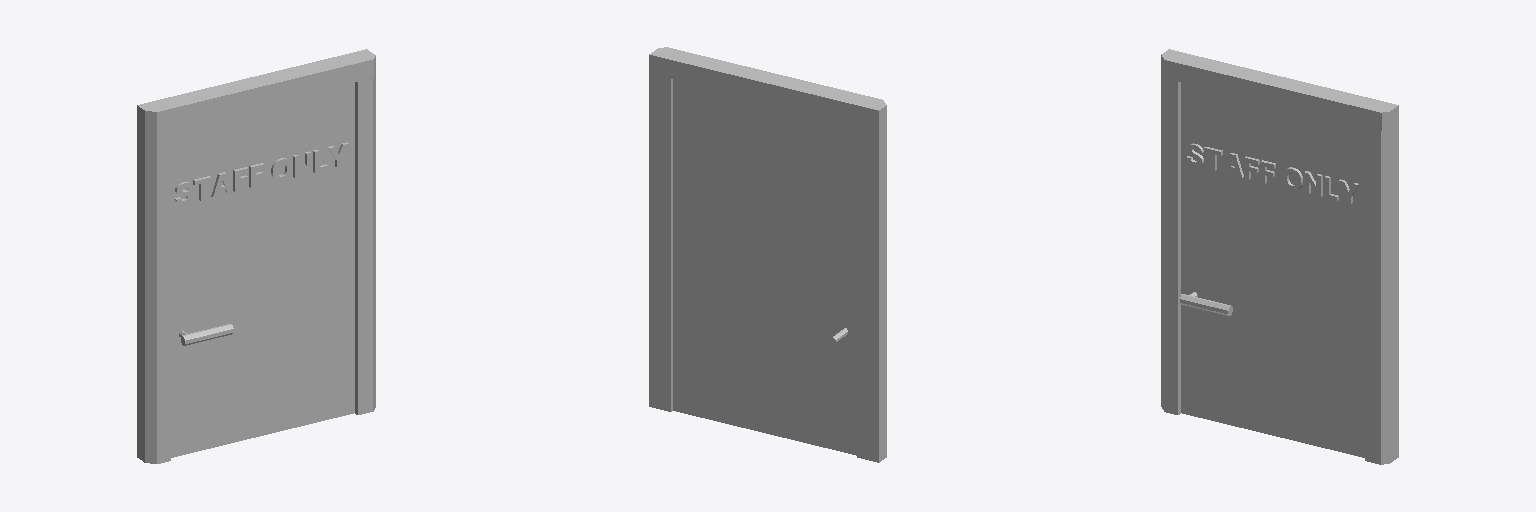
Rendered from Dressing room door.obj.
3 views of the same model, side by side, from view 1: azimuth 30°, elevation 25°; view 2: azimuth 150°, elevation 25°; view 3: azimuth 330°, elevation 25° (orthographic).
Visible parts, largest first — view 1: Part1, Union4, Union3, Part2, Union2; view 2: Part1, Union4, Union3, Part2; view 3: Part1, Union3, Union4, Part2, Union2.
Boxes of the visible parts, x1=… form: Part1: x1=171, y1=83, x2=354, y2=457; Union4: x1=137, y1=101, x2=170, y2=463; Union3: x1=346, y1=49, x2=375, y2=414; Part2: x1=146, y1=52, x2=373, y2=130; Union2: x1=181, y1=324, x2=233, y2=345; Part1: x1=673, y1=79, x2=856, y2=455; Union4: x1=857, y1=97, x2=886, y2=462; Union3: x1=649, y1=47, x2=681, y2=411; Part2: x1=654, y1=47, x2=881, y2=126; Part1: x1=1181, y1=83, x2=1364, y2=457; Union3: x1=1365, y1=100, x2=1398, y2=464; Union4: x1=1161, y1=49, x2=1180, y2=414; Part2: x1=1165, y1=51, x2=1381, y2=130; Union2: x1=1180, y1=294, x2=1232, y2=315.
Size of the model in its own units: 5 by 7.32 by 1.12.